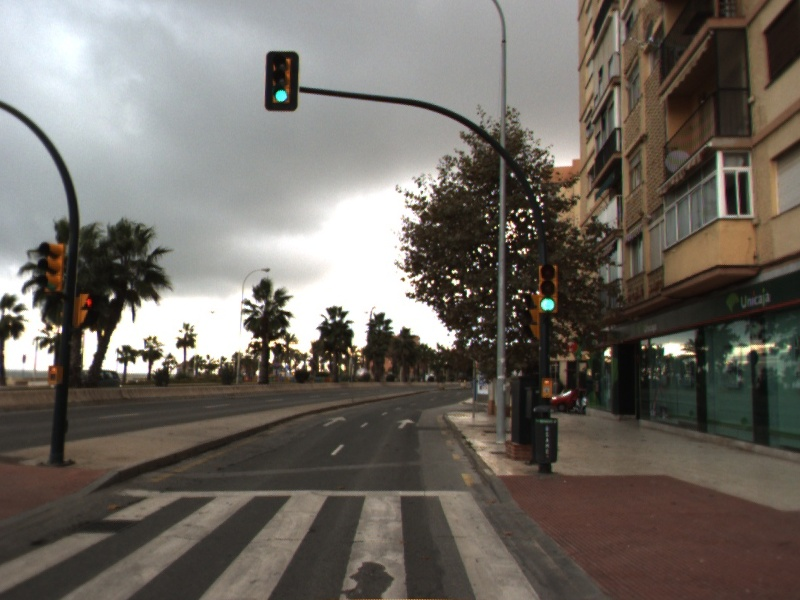STRAIGHT: (321, 415, 348, 428), (395, 417, 416, 430)
